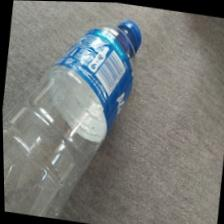plastic: (0, 2, 160, 224)
